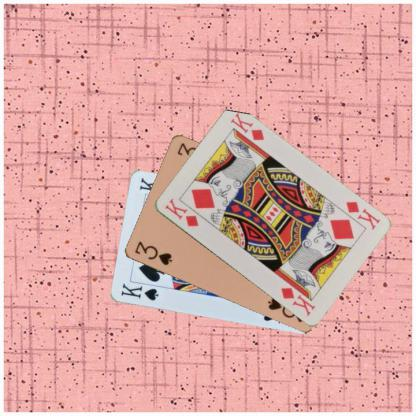3s: (132, 239, 173, 267)
Kd: (343, 198, 381, 232), (162, 196, 200, 228)
Ks: (118, 281, 159, 302)
